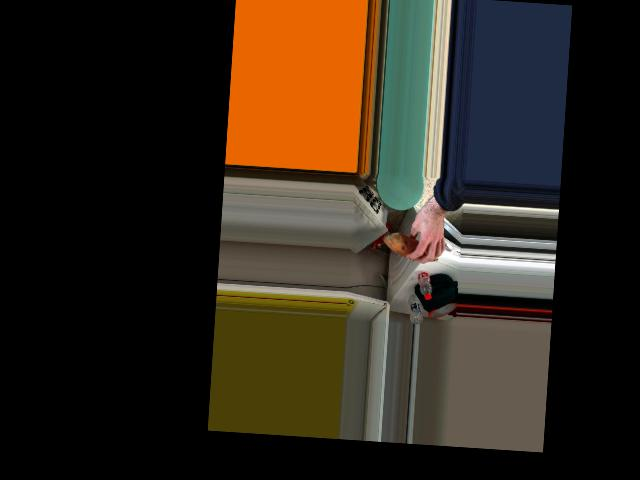sweet_potato: (384, 233, 442, 263)
